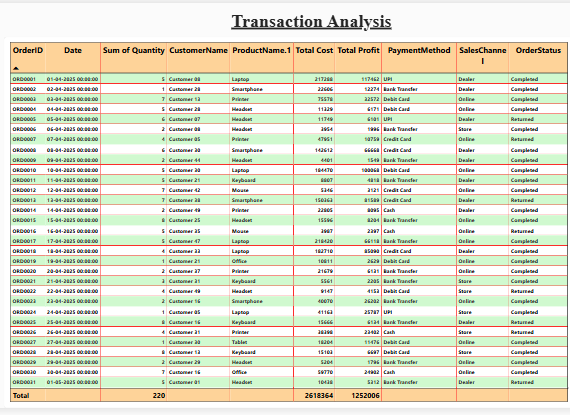

The dashboard page shown, as its layout file describes it:
{"tool":"powerbi","page":{"name":"Page 4","canvas":[1920,1080],"ordinal":3},"visuals":[{"type":"tableEx","fields":{"Values":["FactSales.OrderID","DimDate.Date","Sum(FactSales.Quantity)","DimCustomer.CustomerName","DimProduct.ProductName.1","FactSales.Total Sales","FactSales.Total Cost","FactSales.Total Profit","FactSales.PaymentMethod","FactSales.SalesChannel","FactSales.OrderStatus"]},"box":[222.3,90.6,1698.1,990.1],"z":0},{"type":"actionButton","box":[0,0,99.5,39.8],"z":1000},{"type":"textbox","box":[831.6,20.6,666.9,378.7],"z":3000}]}

Visuals, with their boxes on the page's 1920x1080 design canvas (x1, y1, x2, y2). These are canvas units, not pixel positions in the 570x415 screenshot, which may show the page scaled, cropped or inside an application window:
tableEx - FactSales.OrderID x DimDate.Date: 222/91/1920/1081
actionButton: 0/0/100/40
textbox: 832/21/1498/399
